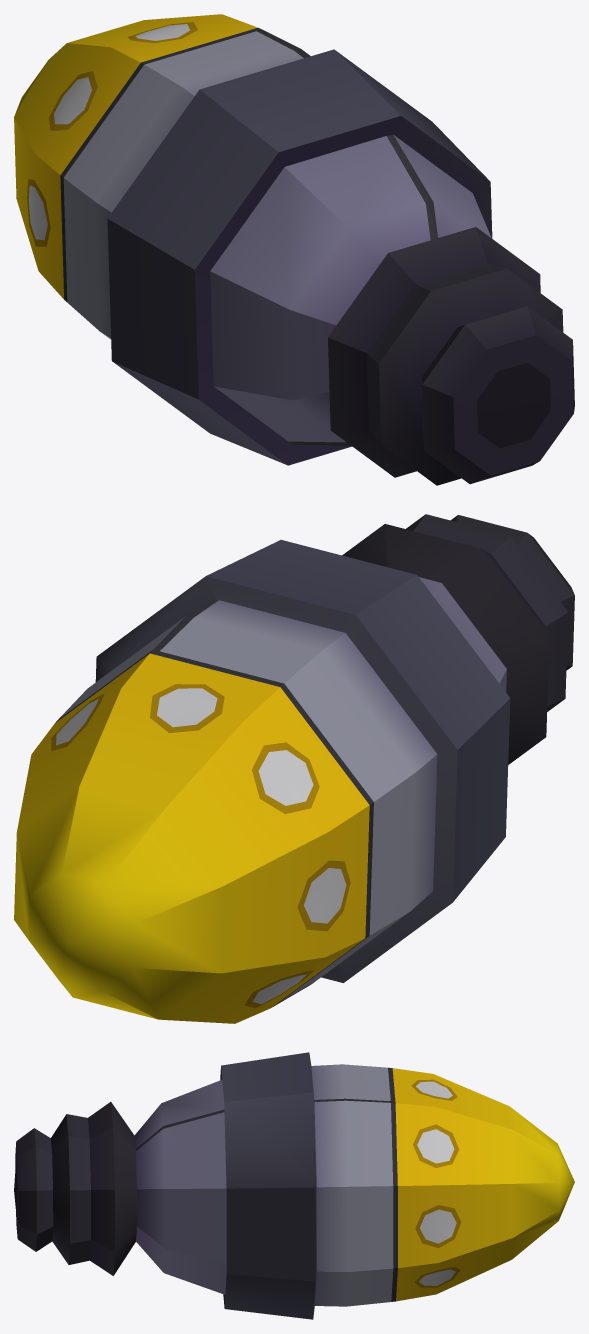
File: platformRocketA.fbx
3 renders of one model, top to bottom at view 1: azimuth 30°, elevation 25°; view 2: azimuth 150°, elevation 25°; view 3: azimuth 270°, elevation 25°, orthographic. The views are drawn at different scales.
Parts seen in each view (by area): view 1: platformRocketA; view 2: platformRocketA; view 3: platformRocketA.
Part boxes in pixels (x1,y1,x2,y2): platformRocketA: [14, 14, 574, 485]; platformRocketA: [14, 514, 574, 1023]; platformRocketA: [14, 1052, 574, 1319].
Size of the model in its own units: 57.42 by 57.45 by 129.
